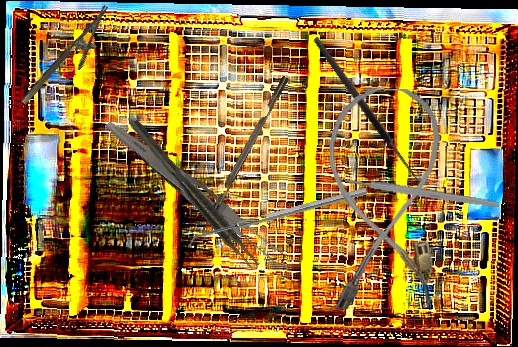Cannula: (326, 87, 441, 311)
Chopper: (194, 75, 298, 243)
Dressing Forceps: (98, 116, 288, 268)
Hook Surgical: (311, 30, 433, 189)
Needle Holder: (19, 4, 124, 117)
Scalpel Handle: (344, 175, 500, 210)
Spatula Surgical: (184, 187, 370, 250)
Tissue Forceps: (129, 115, 262, 273)
